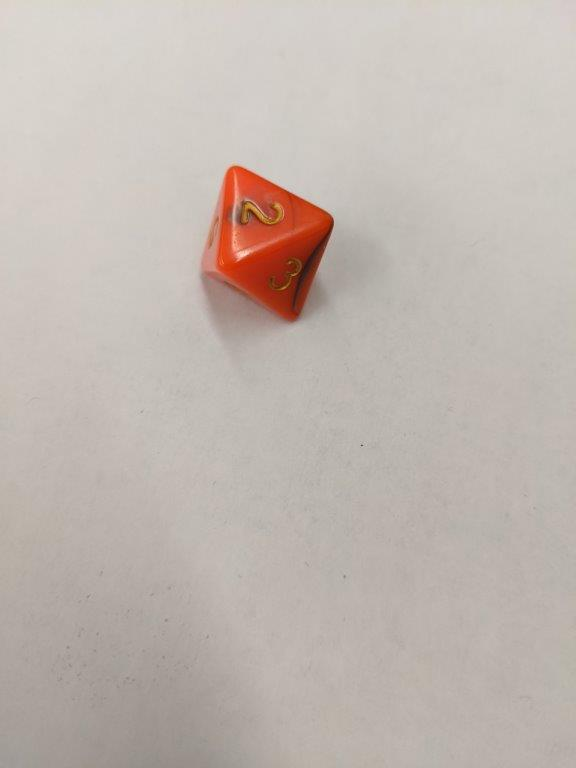d8-2: (198, 165, 336, 323)
